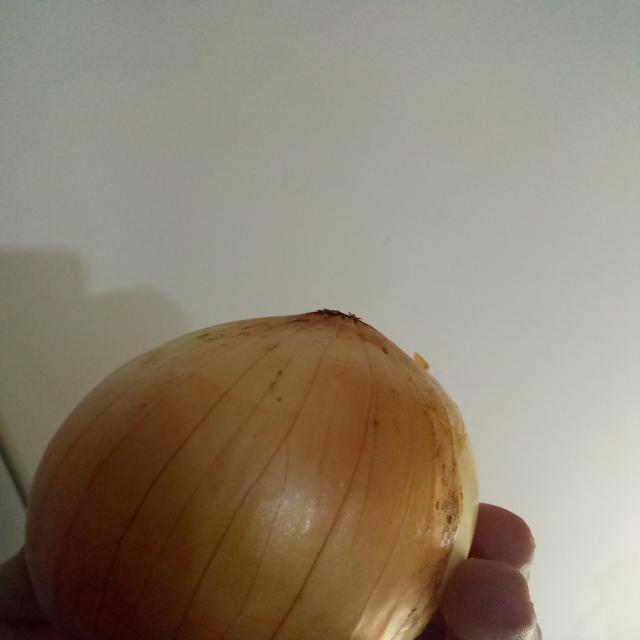Onion: (0, 311, 479, 640)
